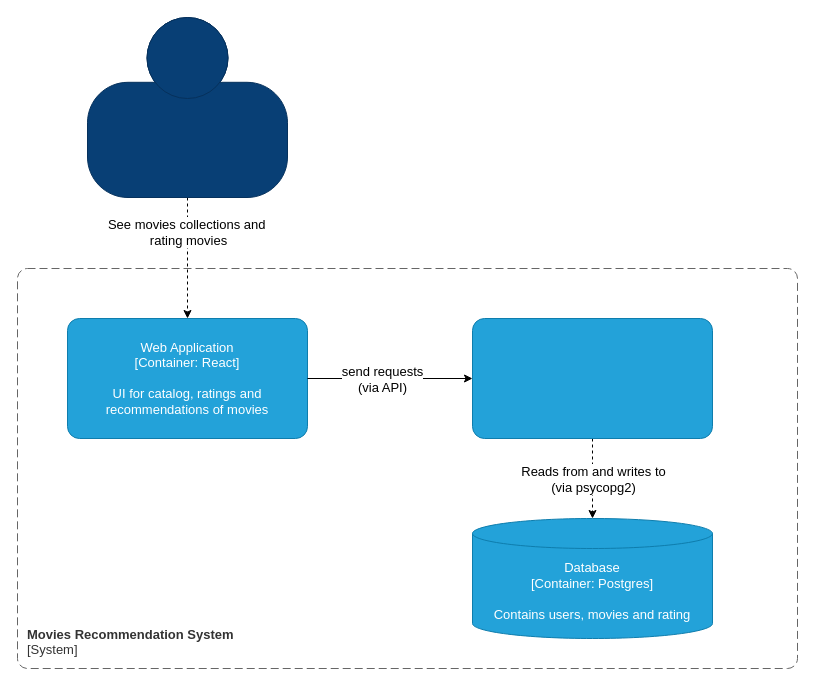
Image size: 815x686. Some labels were removed from this diagram. The shapes that lost their labels are listed below. From the top down, each one's box as (x1, y1, x2, y2) in pixels, then its label:
(86, 16, 288, 198): User [Person] User
(472, 318, 712, 438): API [Container: FastAPI] Handles movies catalog, ratings and recommendations
